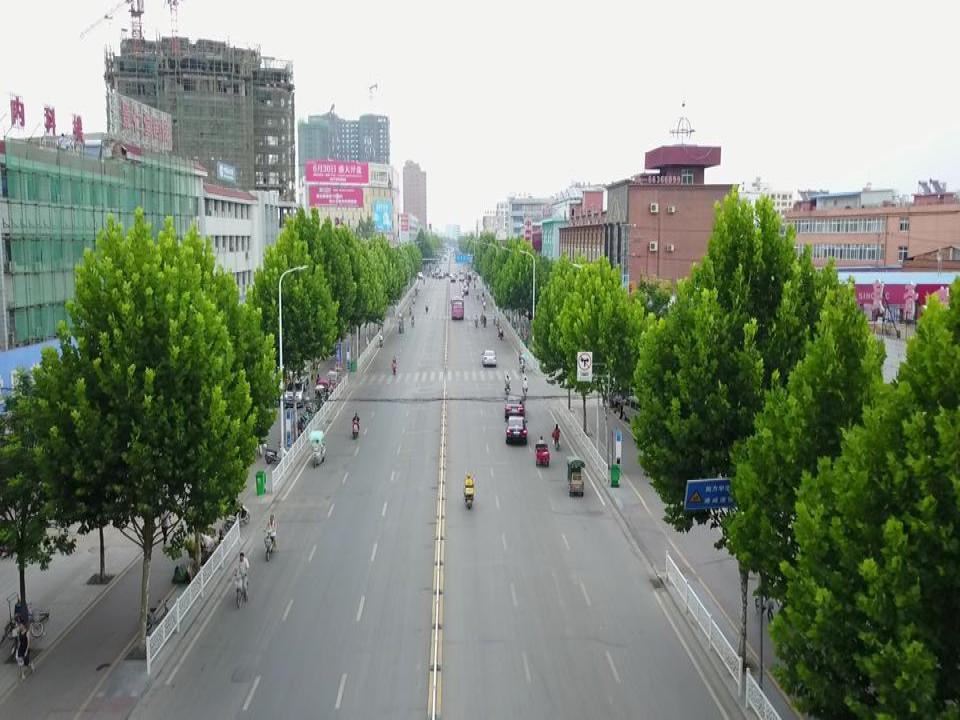bus: (450, 295, 464, 320)
car: (503, 413, 528, 444), (503, 394, 526, 419), (480, 348, 497, 365)
van: (621, 395, 651, 428), (284, 374, 310, 406)
